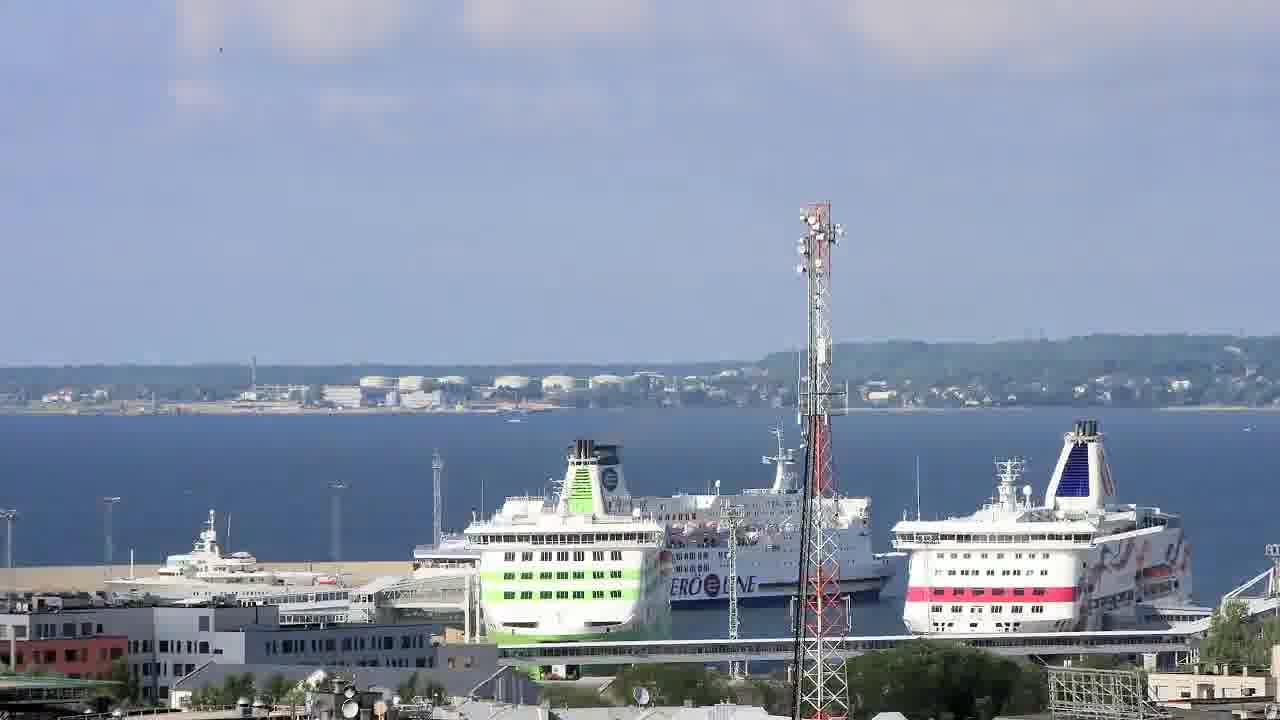type-3: (364, 422, 912, 626), (868, 415, 1225, 638), (436, 434, 694, 670), (100, 520, 364, 629)
